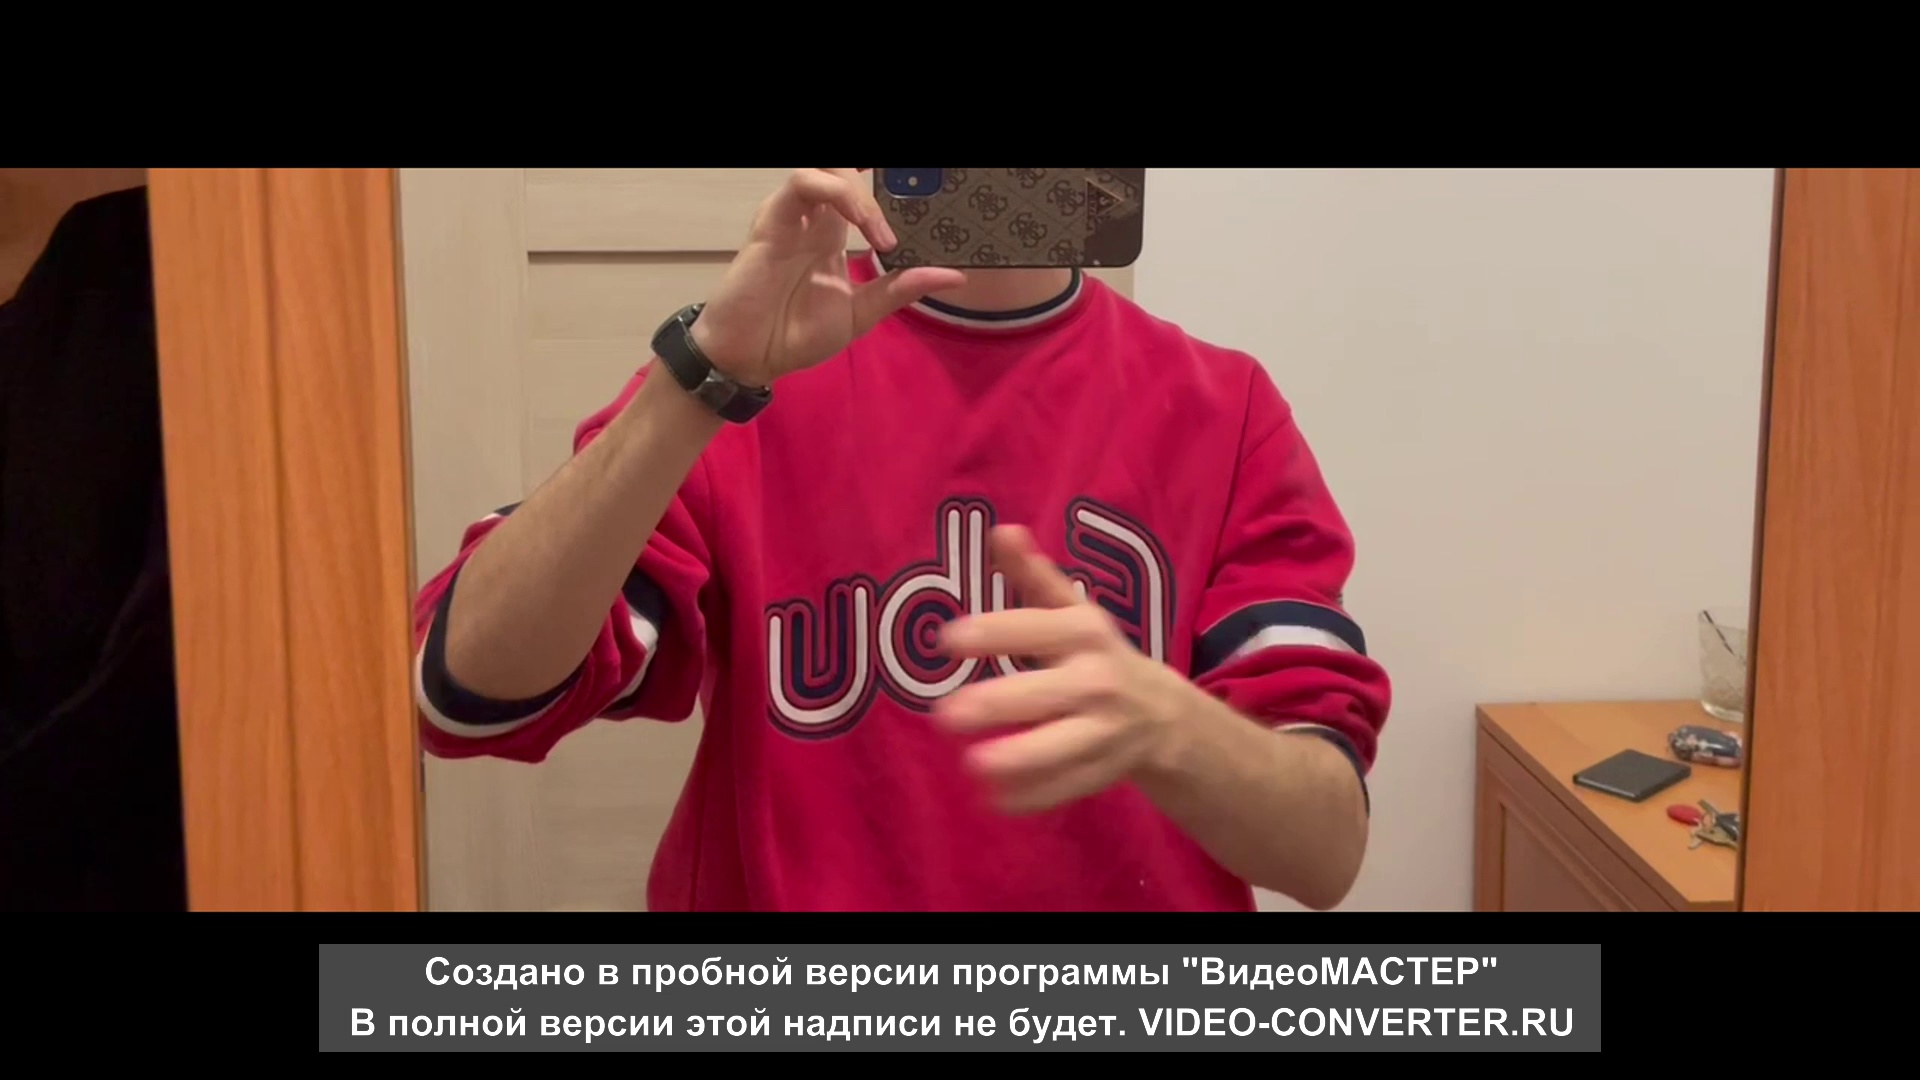Кисть: (932, 518, 1158, 815)
